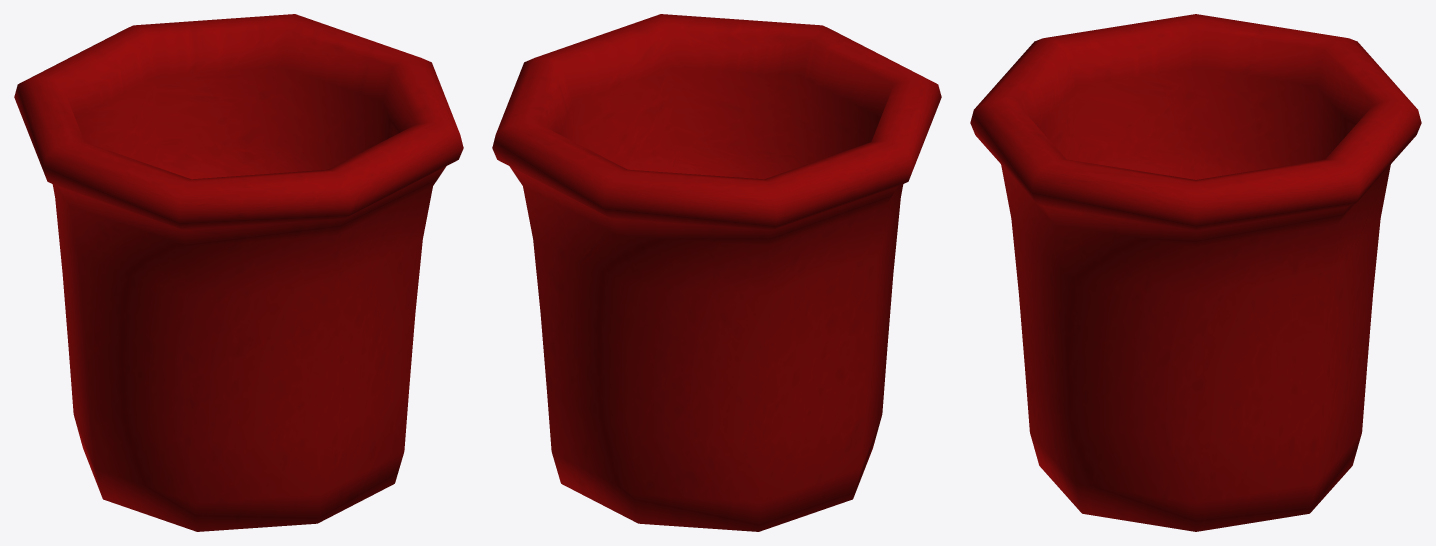
Rendered from Maceta.fbx.
3 views of the same model, side by side, from view 1: azimuth 30°, elevation 25°; view 2: azimuth 150°, elevation 25°; view 3: azimuth 270°, elevation 25° (orthographic).
Visible parts, largest first — view 1: Cube; view 2: Cube; view 3: Cube.
Part boxes in pixels (x1=…): Cube: x1=14, y1=14, x2=463, y2=531; Cube: x1=492, y1=14, x2=941, y2=531; Cube: x1=970, y1=14, x2=1421, y2=531.
Bounding box in the file's own units: 213 × 198 × 213.
1 material, 1 textured.
